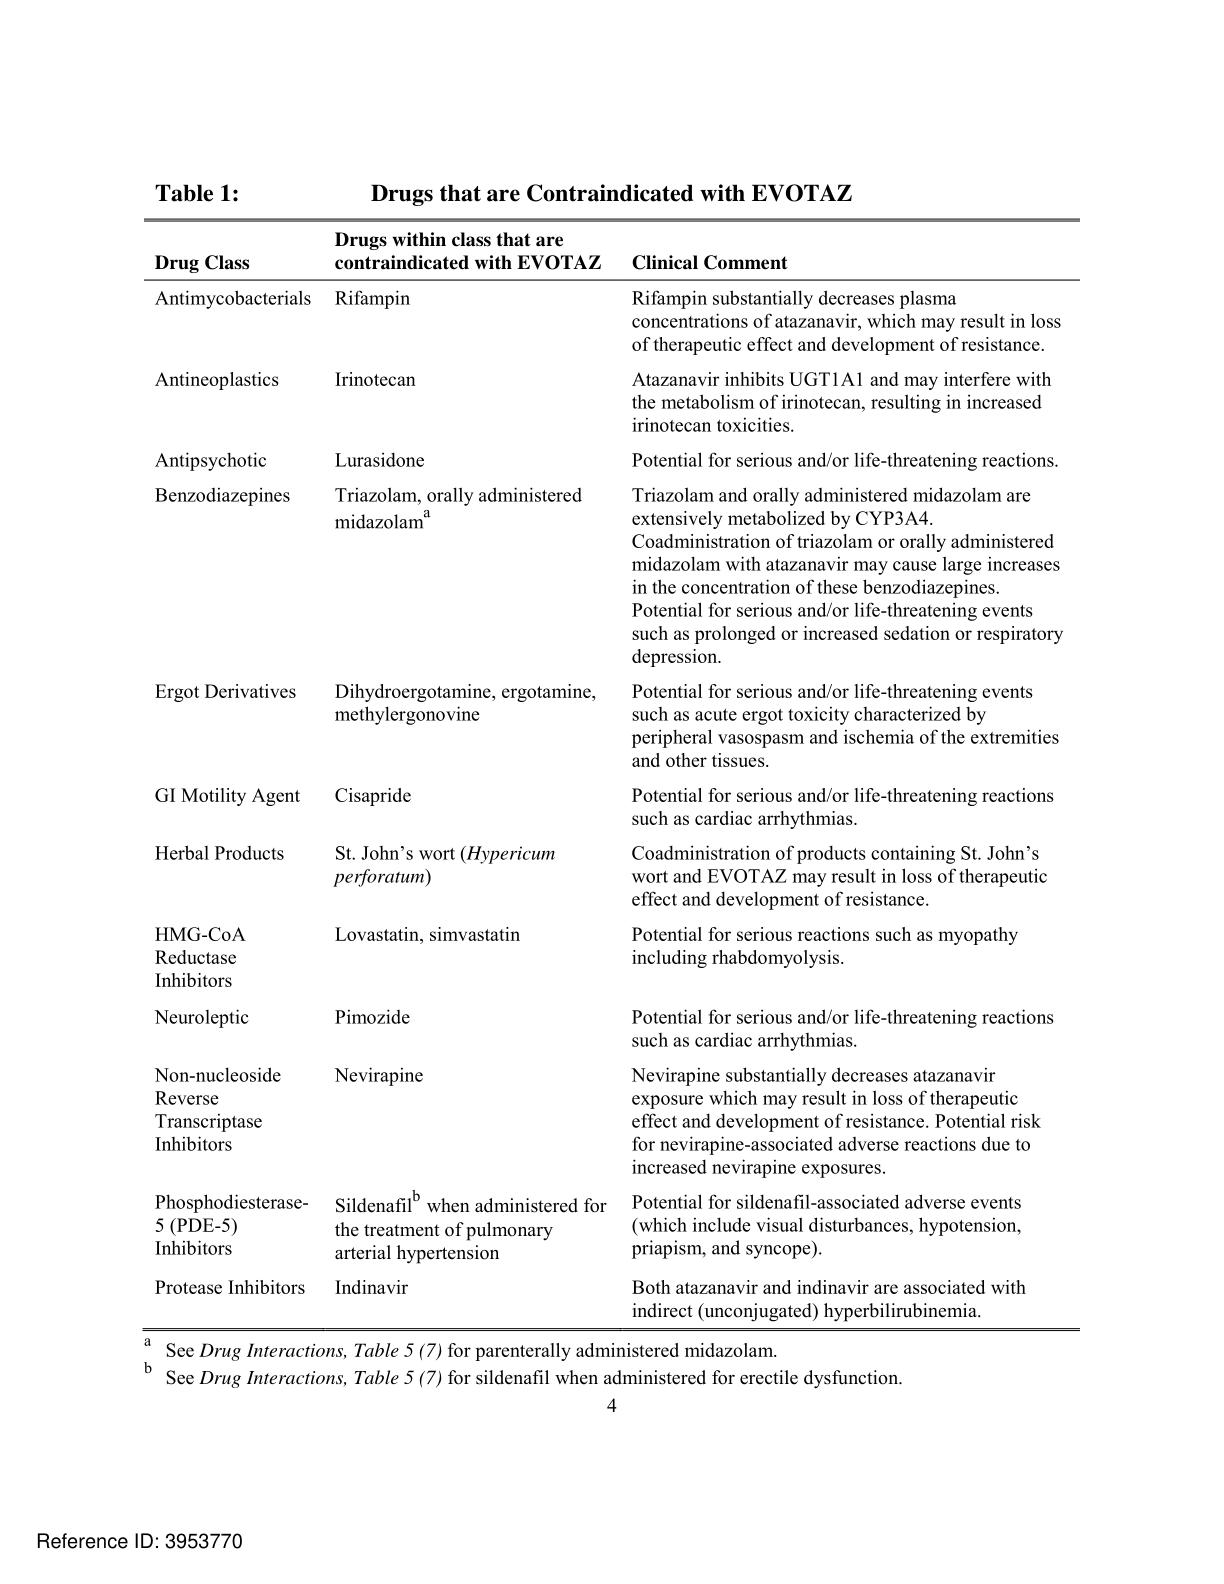partial_lined: (143, 216, 1083, 1331)
